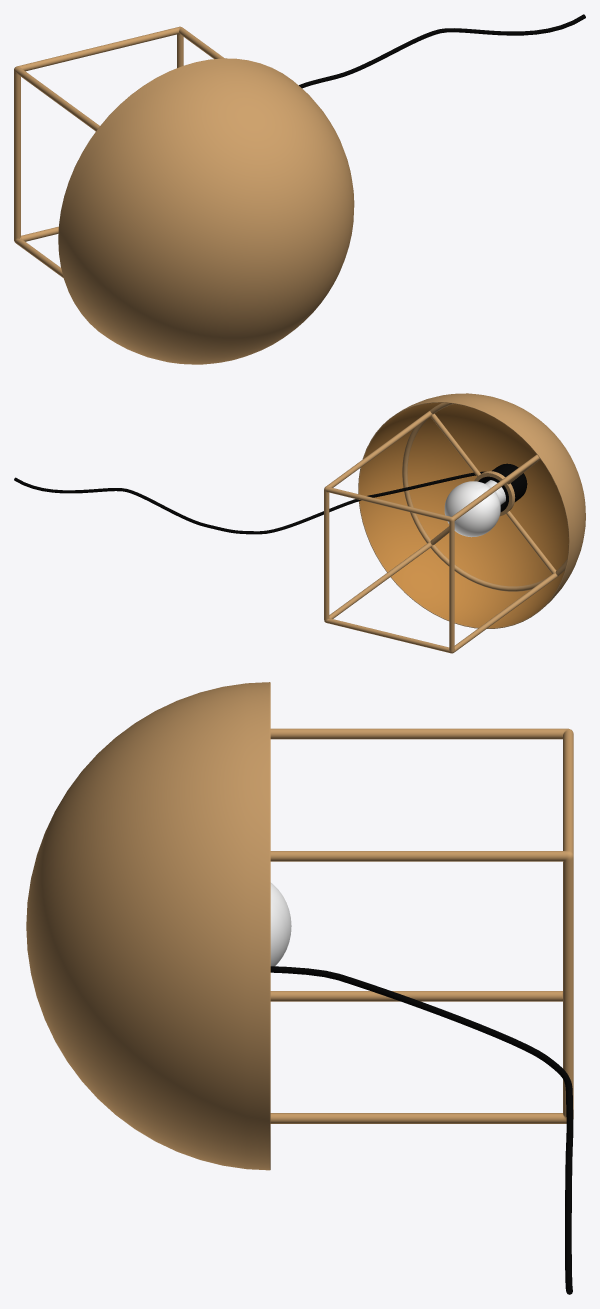
File: Almerich_Coco_S_mat(4).obj
3 views of the same model, one above another, from view 1: azimuth 30°, elevation 25°; view 2: azimuth 150°, elevation 25°; view 3: azimuth 270°, elevation 25° (orthographic). The views are drawn at different scales.
Parts seen in each view (by area): view 1: Almerich_Coco_S_mat4; view 2: Almerich_Coco_S_mat4; view 3: Almerich_Coco_S_mat4.
Boxes of the visible parts, x1,y1,x2,y2 form: Almerich_Coco_S_mat4: [14, 14, 585, 364]; Almerich_Coco_S_mat4: [14, 393, 585, 653]; Almerich_Coco_S_mat4: [26, 682, 573, 1294].
Bounding box in the file's own units: 56.75 × 25 × 28.
